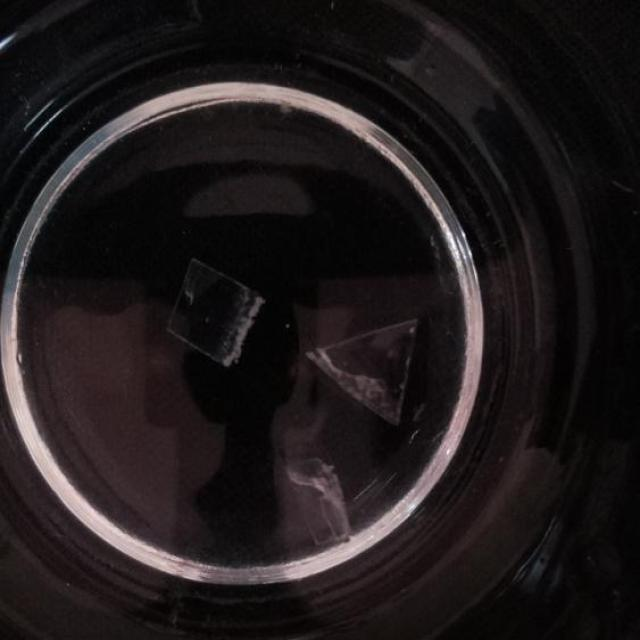fiber: (301, 306, 429, 434), (166, 246, 261, 376), (286, 451, 354, 554)
